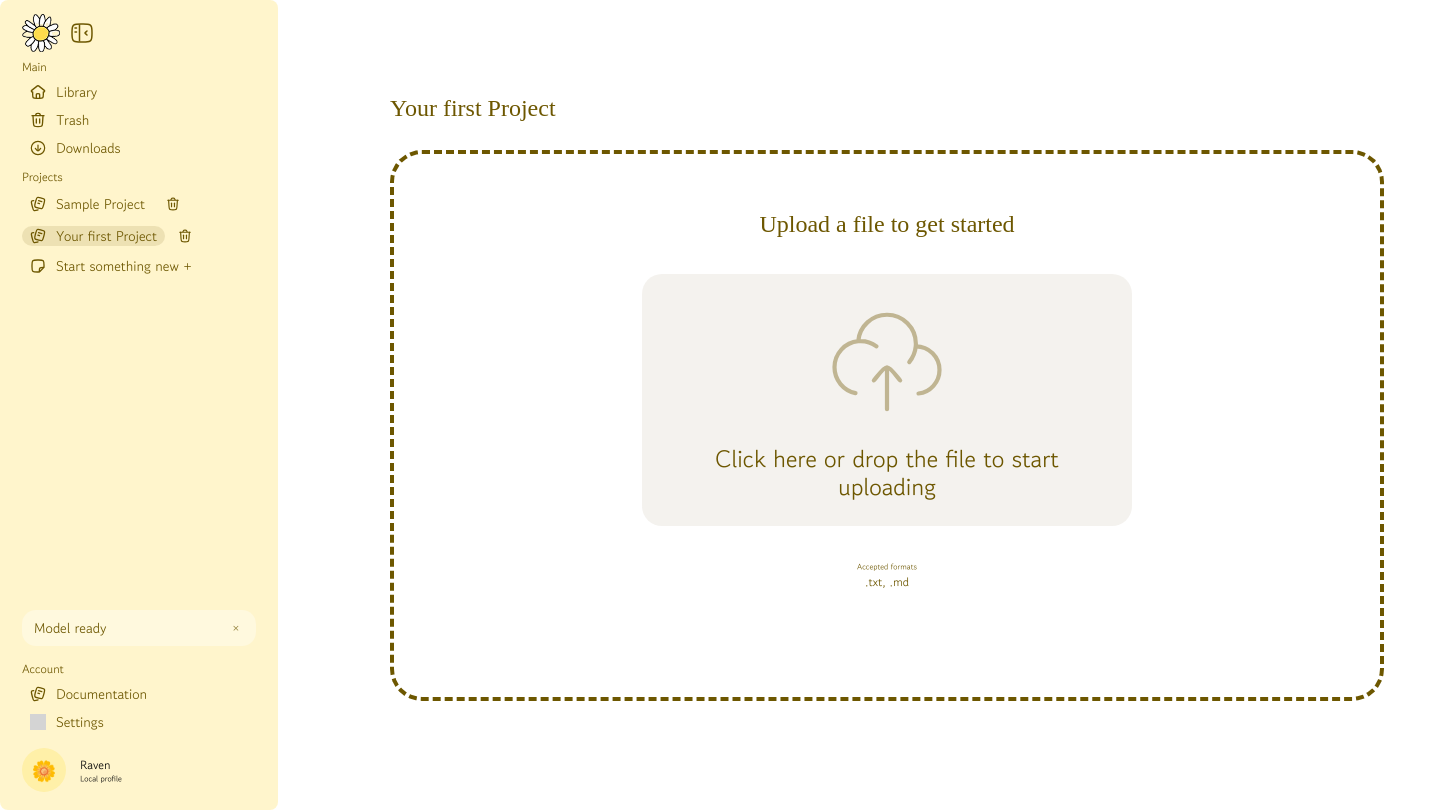
Test: Upload screen › creates a new untitled project from the navbar action
Expected: the heading "Your first Project" is shown, [390,94,556,122]
Step 1. Click the button "Start something new +" → (111, 266), box [22,256,200,276]
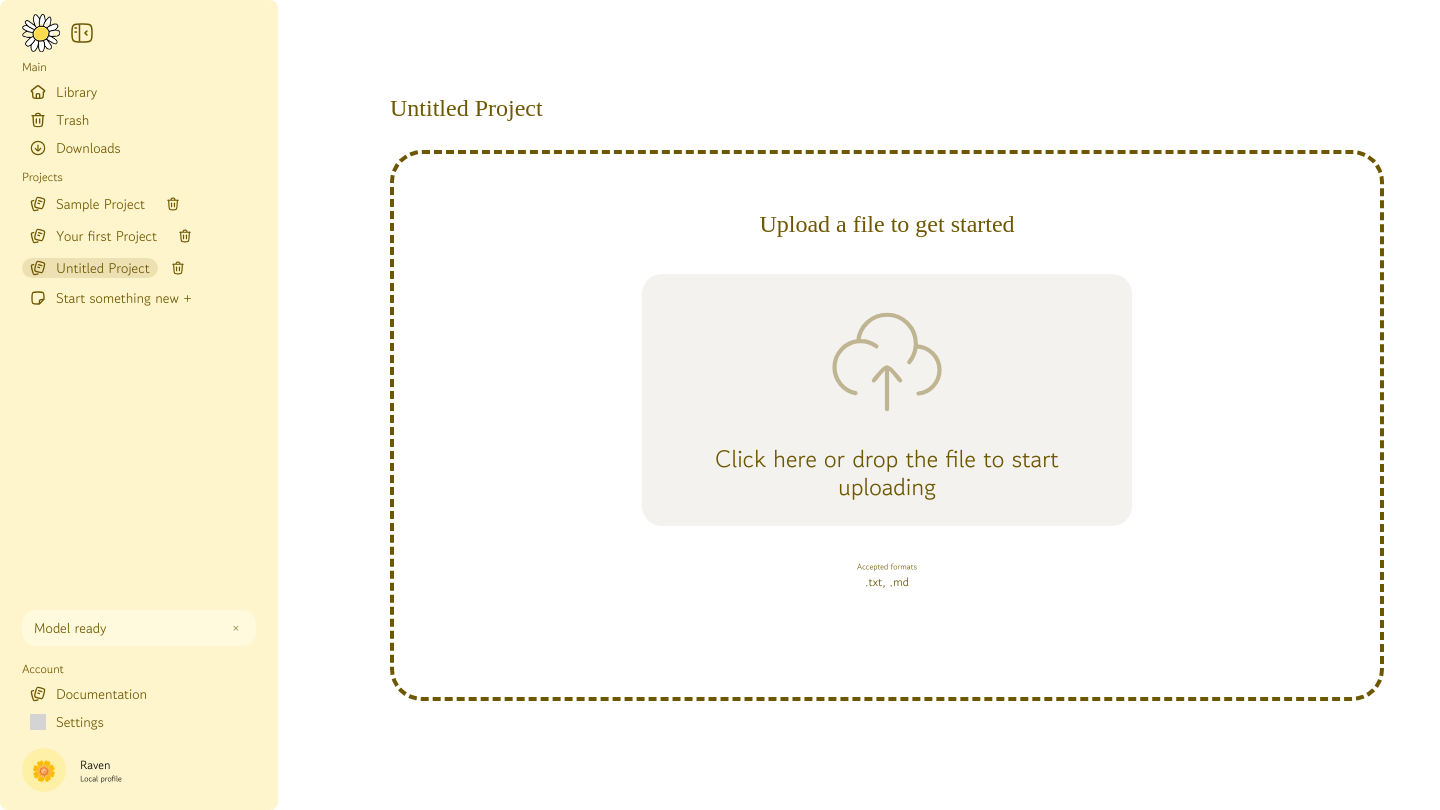
Expected: the heading "Untitled Project" is shown, [390,94,543,122]
